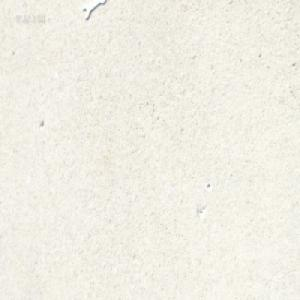Wrench: (83, 0, 106, 20)
